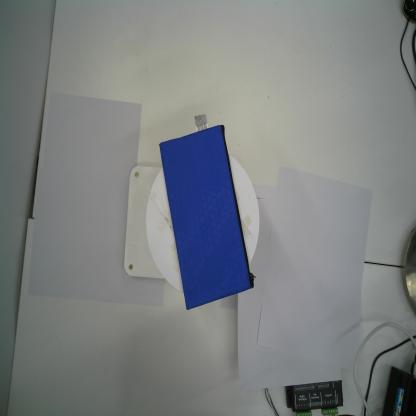Stationery: (158, 124, 256, 311)
